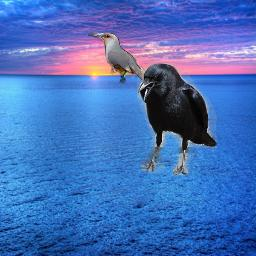Crow: (137, 63, 217, 175)
Cuckoo: (88, 32, 171, 105)
